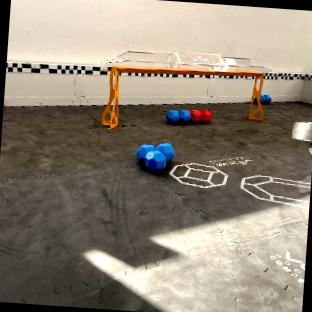Goal: (101, 49, 263, 129)
V5_BLUE: (137, 143, 174, 169), (166, 110, 189, 122), (260, 94, 271, 102)
V5_RED: (190, 110, 211, 122), (200, 110, 211, 122)
